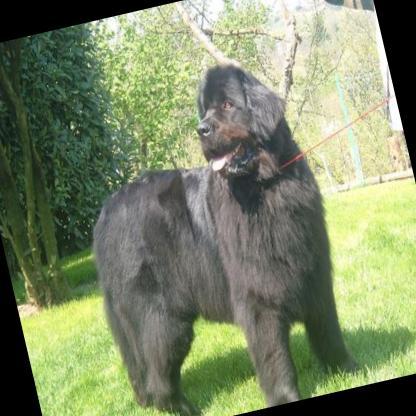Newfoundland: (53, 45, 365, 416)
